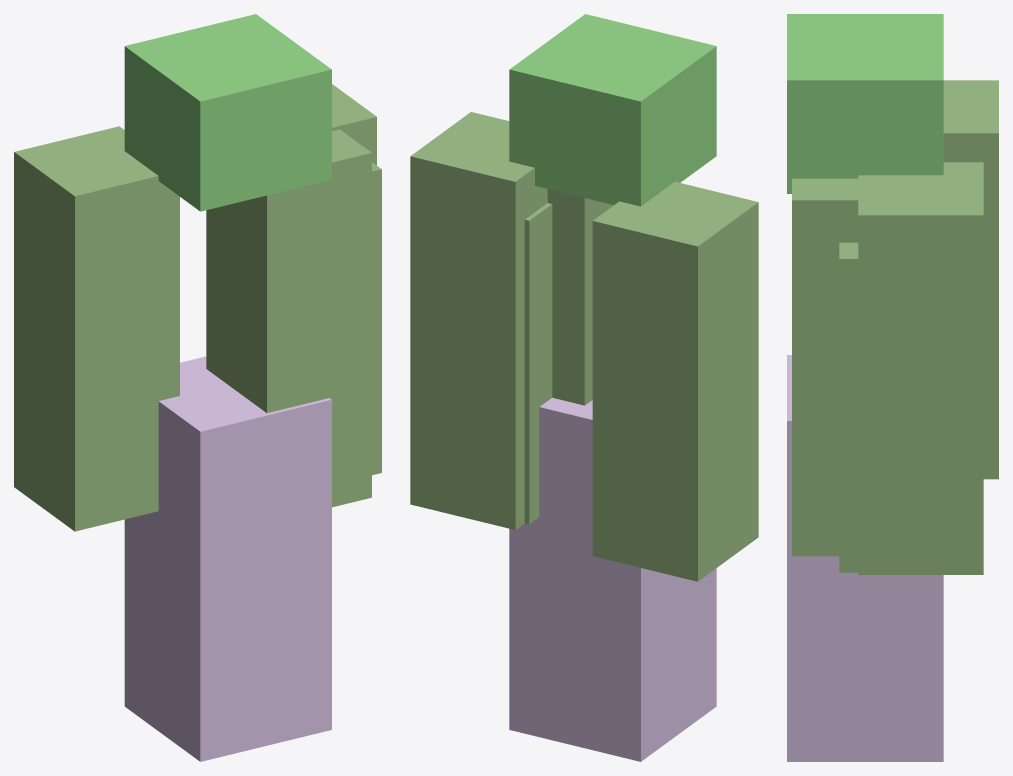
File: Item_Herb_AMF_Furfern_Bundle3.glb
3 renders of one model, left to right at view 1: azimuth 30°, elevation 25°; view 2: azimuth 150°, elevation 25°; view 3: azimuth 270°, elevation 25°, orthographic. The views are drawn at different scales.
Visible parts, largest first — view 1: Item_Herb_AMF_Furfern_Bundle3; view 2: Item_Herb_AMF_Furfern_Bundle3; view 3: Item_Herb_AMF_Furfern_Bundle3.
Boxes of the visible parts, <box> form: Item_Herb_AMF_Furfern_Bundle3: <box>14,14,381,761</box>; Item_Herb_AMF_Furfern_Bundle3: <box>410,14,758,761</box>; Item_Herb_AMF_Furfern_Bundle3: <box>787,14,998,761</box>.
Size of the model in its own units: 0.1122 by 0.24 by 0.0676.
